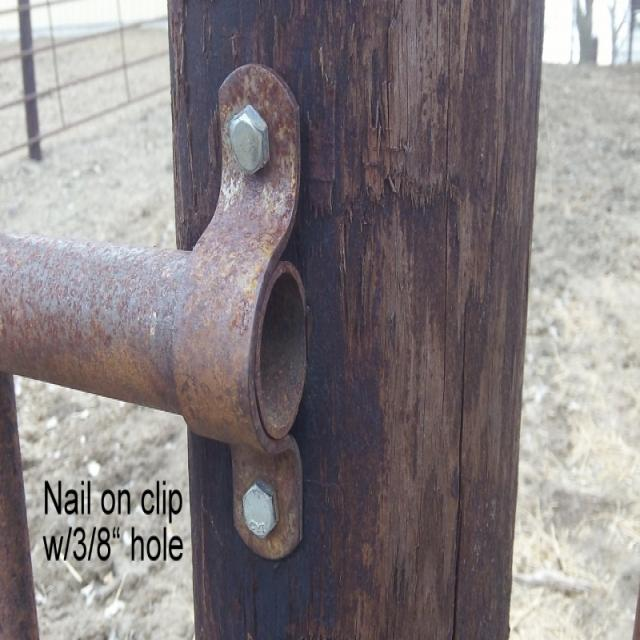bolt head: (226, 102, 272, 180), (239, 476, 283, 543)
